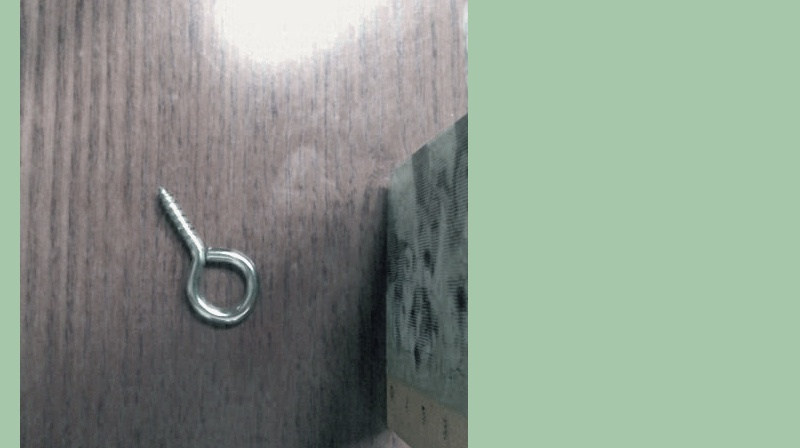O001: (153, 184, 261, 331)
